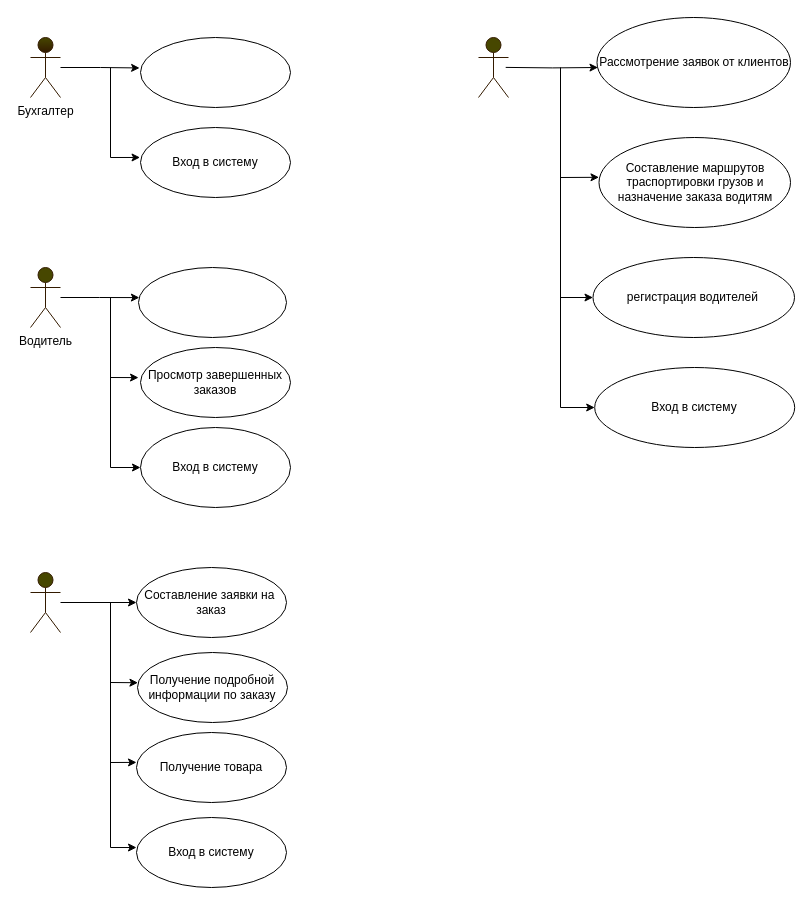
The diagram is 812 pixels wide and 905 high, and some of its shapes have lost their labels. The centre of each missing label's shape, as x and y in pixels:
Администратор: (x=493, y=67)
Заказчик: (x=45, y=602)
Просмотр активного заказа: (x=212, y=302)
Расчет стоимости грузоперевозки: (x=215, y=72)
